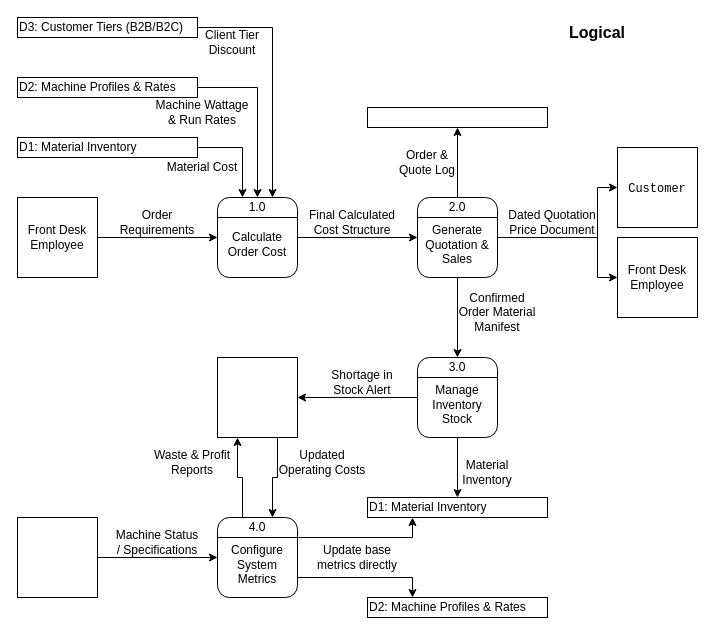
The diagram is 715 pixels wide and 635 high, and some of its shapes have lost their labels. The centre of each missing label's shape, as x and y in pixels:
"D4: Orders & Quotations" goes at point 457,117.
"Machine Operator / Designer" goes at point 57,557.
"Manager / Owner" goes at point 257,397.
